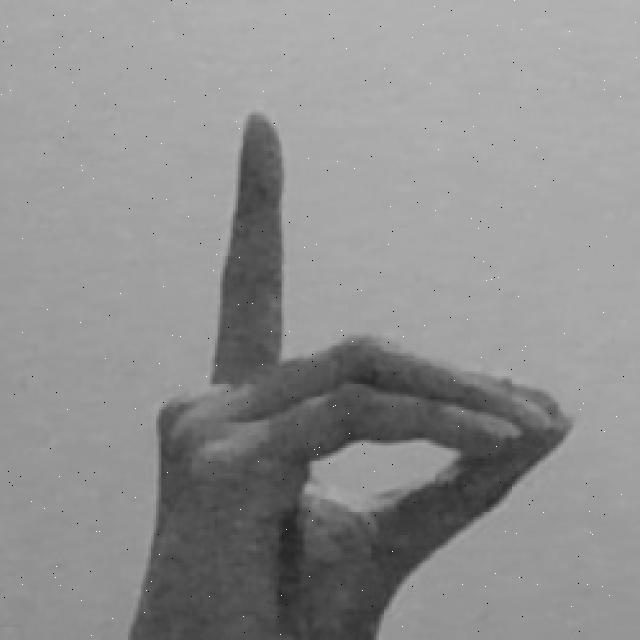D: (130, 112, 575, 640)
